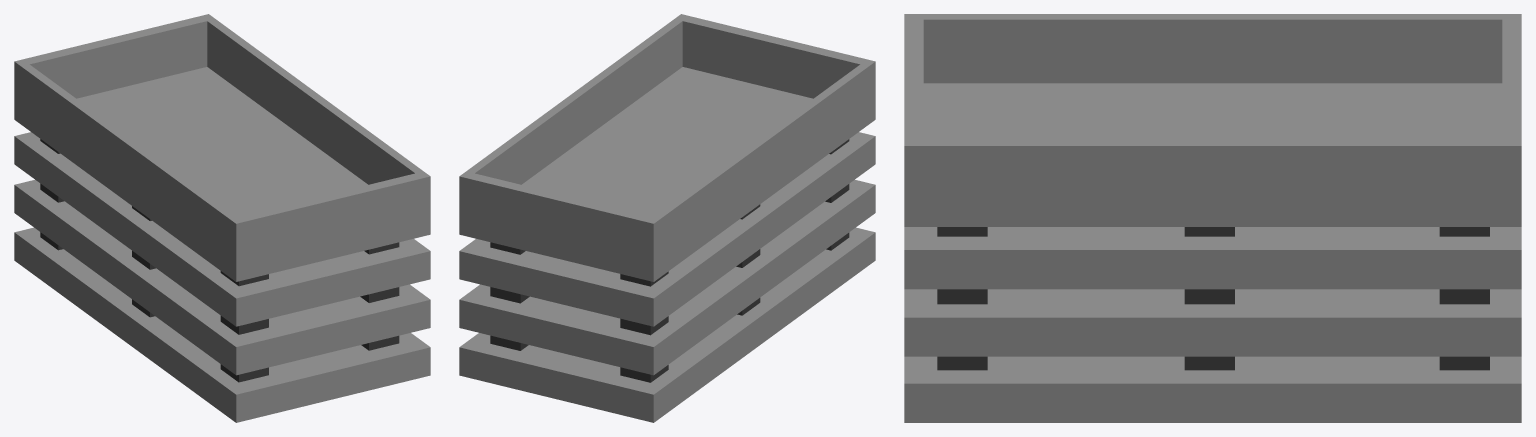
The model's file is shelf_H.FBX.
3 views of the same model, side by side, from view 1: azimuth 30°, elevation 25°; view 2: azimuth 150°, elevation 25°; view 3: azimuth 270°, elevation 25° (orthographic). The views are drawn at different scales.
Visible parts, largest first — view 1: shelf_H; view 2: shelf_H; view 3: shelf_H.
Boxes of the visible parts, x1,y1,x2,y2 form: shelf_H: [14, 14, 430, 422]; shelf_H: [459, 14, 875, 422]; shelf_H: [904, 14, 1521, 422].
Bounding box in the file's own units: 39.77 × 38.91 × 78.58.
